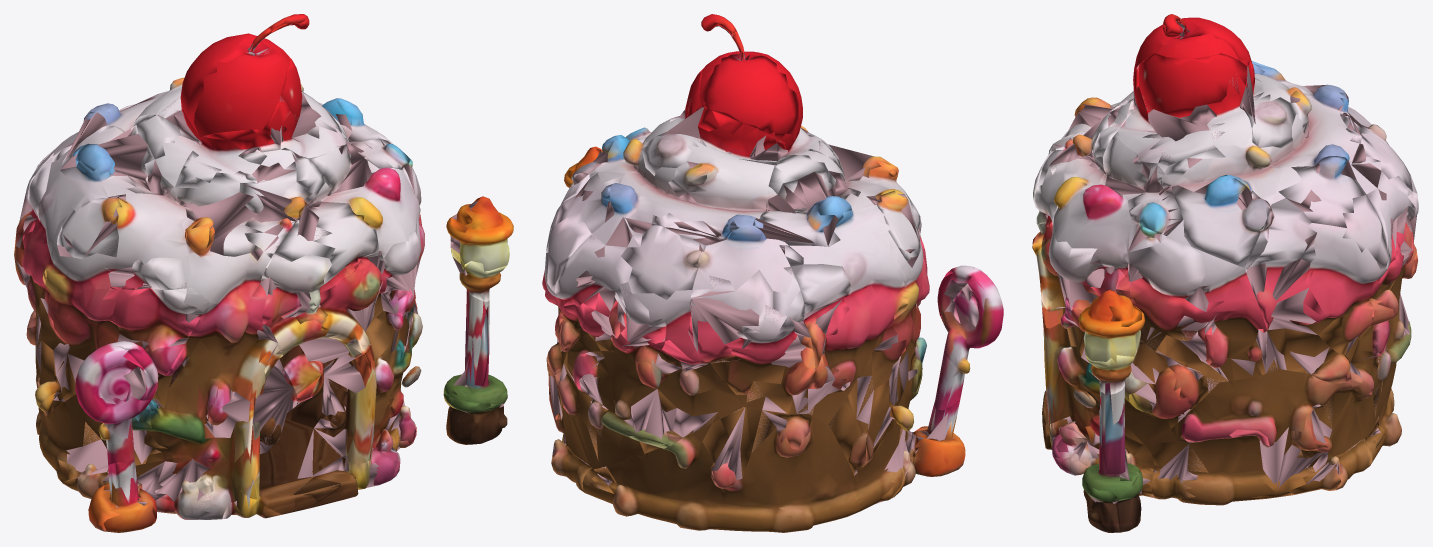
File: CF_Cottage_Fractured.fbx
3 renders of one model, left to right at view 1: azimuth 30°, elevation 25°; view 2: azimuth 150°, elevation 25°; view 3: azimuth 270°, elevation 25°, orthographic. The views are drawn at different scales.
Parts seen in each view (by area): view 1: CF_Cottage_Frag_08, CF_Cottage_Frag_10, CF_Cottage_Frag_01, CF_Cottage_Frag_06, CF_Cottage_Frag_00, CF_Cottage_Frag_05, CF_Cottage_Frag_09, CF_Cottage_Frag_19, CF_Cottage_Frag_25, CF_Cottage_Frag_22, CF_Cottage_Frag_24, CF_Cottage_Frag_26 (+12 smaller); view 2: CF_Cottage_Frag_11, CF_Cottage_Frag_23, CF_Cottage_Frag_21, CF_Cottage_Frag_15, CF_Cottage_Frag_02, CF_Cottage_Frag_13, CF_Cottage_Frag_09, CF_Cottage_Frag_16, CF_Cottage_Frag_19, CF_Cottage_Frag_27, CF_Cottage_Frag_24, CF_Cottage_Frag_04 (+8 smaller); view 3: CF_Cottage_Frag_18, CF_Cottage_Frag_27, CF_Cottage_Frag_17, CF_Cottage_Frag_12, CF_Cottage_Frag_28, CF_Cottage_Frag_29, CF_Cottage_Frag_02, CF_Cottage_Frag_14, CF_Cottage_Frag_15, CF_Cottage_Frag_03, CF_Cottage_Frag_21, CF_Cottage_Frag_26 (+9 smaller).
Part boxes in pixels (x1,y1,x2,y2): CF_Cottage_Frag_08: [156, 303, 296, 514]; CF_Cottage_Frag_10: [175, 129, 325, 309]; CF_Cottage_Frag_01: [283, 310, 413, 512]; CF_Cottage_Frag_06: [53, 187, 191, 289]; CF_Cottage_Frag_00: [244, 182, 382, 327]; CF_Cottage_Frag_05: [62, 455, 282, 532]; CF_Cottage_Frag_09: [57, 111, 200, 224]; CF_Cottage_Frag_19: [180, 27, 286, 136]; CF_Cottage_Frag_25: [269, 250, 386, 394]; CF_Cottage_Frag_22: [84, 288, 208, 391]; CF_Cottage_Frag_24: [43, 392, 187, 482]; CF_Cottage_Frag_26: [307, 393, 507, 508]; CF_Cottage_Frag_11: [582, 407, 859, 532]; CF_Cottage_Frag_23: [688, 225, 815, 413]; CF_Cottage_Frag_21: [554, 333, 743, 470]; CF_Cottage_Frag_15: [554, 215, 705, 353]; CF_Cottage_Frag_02: [609, 107, 788, 245]; CF_Cottage_Frag_13: [779, 245, 906, 423]; CF_Cottage_Frag_09: [753, 141, 890, 255]; CF_Cottage_Frag_16: [828, 276, 924, 475]; CF_Cottage_Frag_19: [700, 31, 802, 142]; CF_Cottage_Frag_27: [542, 172, 624, 375]; CF_Cottage_Frag_24: [853, 337, 964, 511]; CF_Cottage_Frag_04: [940, 267, 1003, 373]; CF_Cottage_Frag_18: [1116, 369, 1372, 532]; CF_Cottage_Frag_27: [1245, 156, 1388, 383]; CF_Cottage_Frag_17: [1127, 221, 1279, 382]; CF_Cottage_Frag_12: [1128, 142, 1282, 267]; CF_Cottage_Frag_28: [1118, 53, 1252, 165]; CF_Cottage_Frag_29: [1074, 341, 1218, 503]; CF_Cottage_Frag_02: [1239, 56, 1361, 168]; CF_Cottage_Frag_14: [1048, 184, 1131, 332]; CF_Cottage_Frag_15: [1351, 124, 1418, 339]; CF_Cottage_Frag_03: [1078, 249, 1144, 394]; CF_Cottage_Frag_21: [1350, 244, 1418, 441]; CF_Cottage_Frag_26: [1042, 409, 1154, 532].
Bounding box in the file's own units: 1399 × 1334 × 1070.
